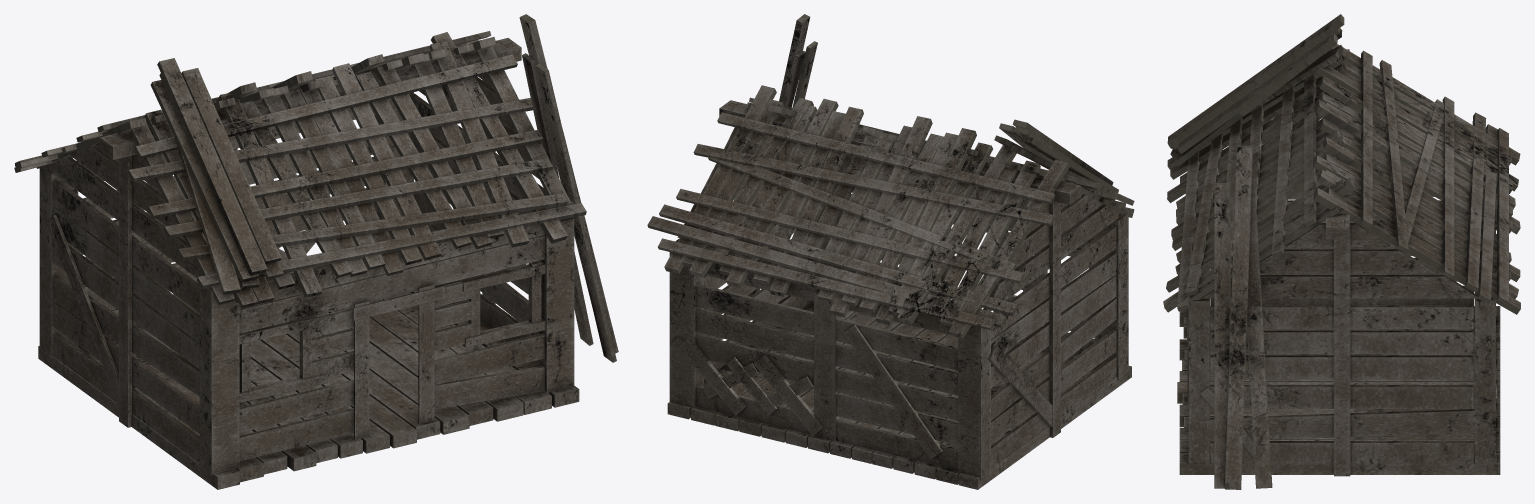
File: old_house_wooden.glb
The picture shows the model from 3 angles, left to right: view 1: azimuth 30°, elevation 25°; view 2: azimuth 150°, elevation 25°; view 3: azimuth 270°, elevation 25°; orthographic projection. The views are drawn at different scales.
Parts seen in each view (by area): view 1: woods wall_10, roof 01_1, roof 02_11, wood floor_5, wooden pillar_3, roof03_9, woods wall 01_8, door_2, wooden beam 02_6, window_4, window.001_12, woods wall 02_7 (+1 smaller); view 2: woods wall_10, roof 01_1, roof 02_11, wooden pillar_3, wood floor_5, woods wall 02_7, wooden beam 02_6, roof03_9, woods wall 01_8, wooden beam_0; view 3: woods wall_10, roof 01_1, roof 02_11, woods wall 01_8, wood floor_5, wooden pillar_3, roof03_9, wooden beam 02_6, wooden beam_0, woods wall 02_7.
Boxes of the visible parts, bbox=[...] form: woods wall_10: bbox=[45, 74, 547, 462]; roof 01_1: bbox=[37, 32, 576, 308]; roof 02_11: bbox=[14, 31, 586, 288]; wood floor_5: bbox=[38, 290, 579, 489]; wooden pillar_3: bbox=[39, 92, 574, 476]; roof03_9: bbox=[150, 58, 283, 294]; woods wall 01_8: bbox=[519, 14, 618, 362]; door_2: bbox=[352, 284, 444, 439]; wooden beam 02_6: bbox=[119, 80, 495, 427]; window_4: bbox=[239, 315, 327, 402]; window.001_12: bbox=[459, 261, 545, 347]; woods wall 02_7: bbox=[46, 215, 356, 407]; woods wall_10: bbox=[677, 127, 1123, 470]; roof 01_1: bbox=[664, 85, 1133, 338]; roof 02_11: bbox=[647, 97, 1134, 330]; wooden pillar_3: bbox=[669, 183, 1128, 480]; wood floor_5: bbox=[667, 302, 1131, 489]; woods wall 02_7: bbox=[679, 295, 1052, 459]; wooden beam 02_6: bbox=[740, 200, 1060, 441]; roof03_9: bbox=[994, 119, 1134, 205]; woods wall 01_8: bbox=[748, 14, 817, 296]; wooden beam_0: bbox=[719, 100, 1081, 204]; woods wall_10: bbox=[1194, 115, 1477, 463]; roof 01_1: bbox=[1163, 44, 1520, 314]; roof 02_11: bbox=[1177, 50, 1508, 311]; woods wall 01_8: bbox=[1214, 145, 1272, 489]; wood floor_5: bbox=[1177, 306, 1500, 474]; wooden pillar_3: bbox=[1188, 158, 1495, 463]; roof03_9: bbox=[1167, 14, 1344, 166]; wooden beam 02_6: bbox=[1334, 228, 1494, 476]; wooden beam_0: bbox=[1326, 49, 1349, 239]; woods wall 02_7: bbox=[1199, 343, 1497, 457].
Bounding box in the file's own units: 10.29 × 7.76 × 7.79.
Materials: 2 (2 with a texture image).
